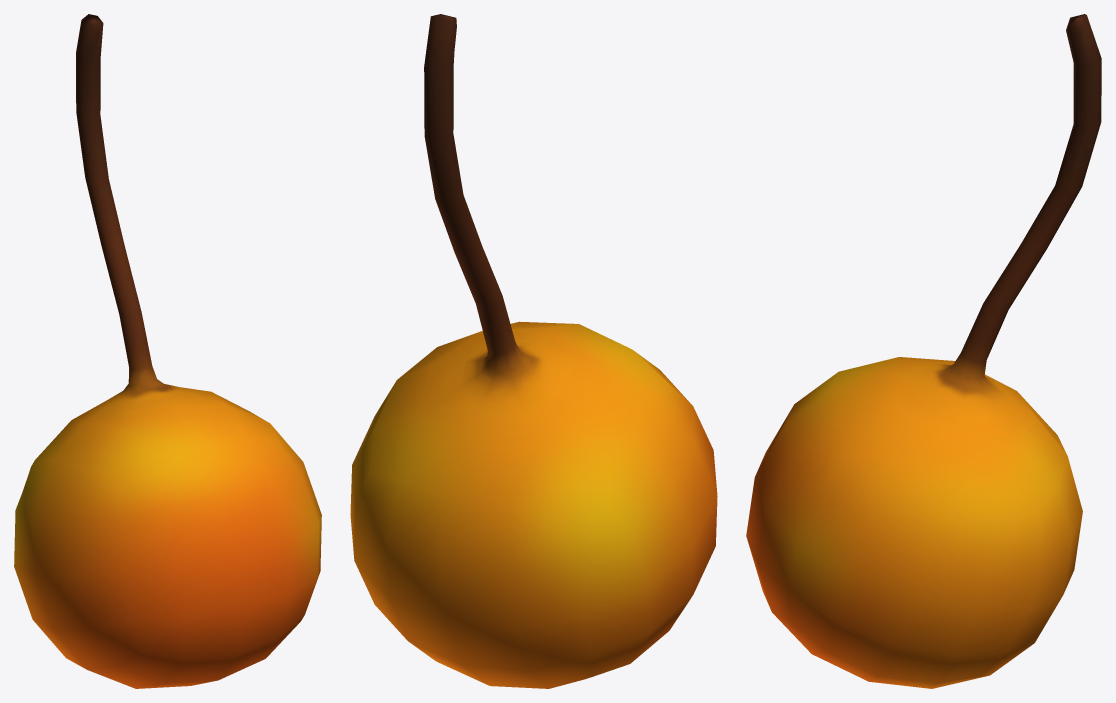
The model's file is cherry_zero.glb.
The picture shows the model from 3 angles, left to right: view 1: azimuth 30°, elevation 25°; view 2: azimuth 150°, elevation 25°; view 3: azimuth 270°, elevation 25°; orthographic projection. The views are drawn at different scales.
Visible parts, largest first — view 1: Object_4; view 2: Object_4; view 3: Object_4.
Boxes of the visible parts, x1=… form: Object_4: x1=14, y1=14, x2=321, y2=688; Object_4: x1=350, y1=14, x2=717, y2=688; Object_4: x1=746, y1=14, x2=1101, y2=688.
Size of the model in its own units: 0.689 by 1.49 by 0.7301.
Materials: 1 (1 with a texture image).
